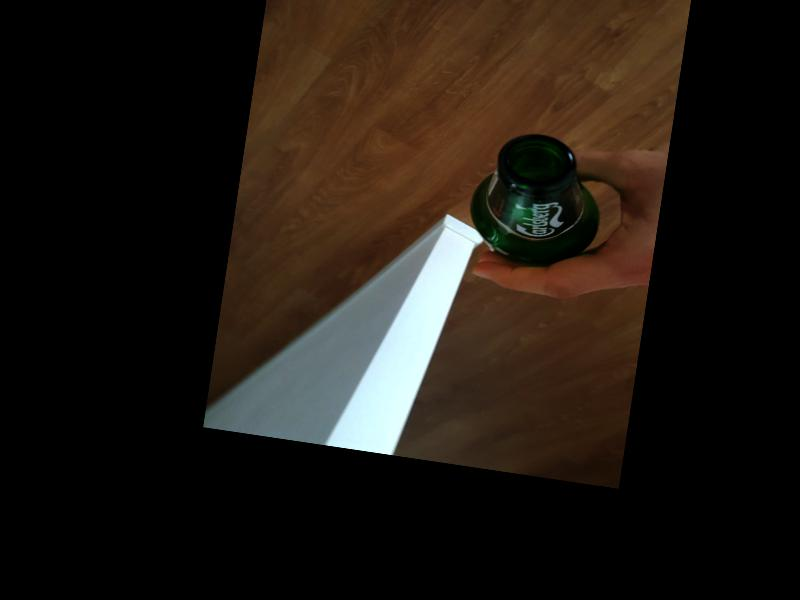Beer: (463, 126, 612, 273)
